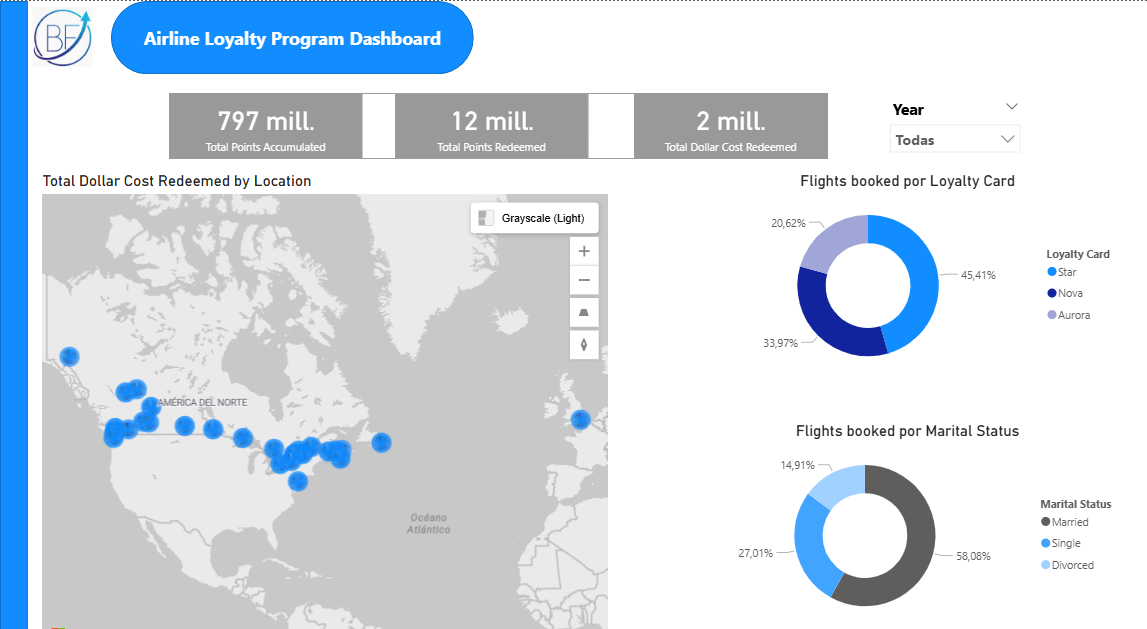

Layout of this report page (visuals, bound fields, positions):
{"tool":"powerbi","page":{"name":"Exec dashboard","canvas":[1280,720],"ordinal":0},"visuals":[{"type":"card","fields":{"Values":["Sum(Customer Flight Activity.Points Accumulated)"]},"box":[188.2,102.2,214.9,73.2],"z":0,"group":"g1"},{"type":"image","box":[31.4,0,77.4,80.8],"z":1},{"type":"shape","box":[0,0,31.4,720.2],"z":2},{"type":"card","fields":{"Values":["Sum(Customer Flight Activity.Points Redeemed)"]},"box":[439.1,102.2,214.9,73.2],"z":3,"group":"g1"},{"type":"card","fields":{"Values":["Sum(Customer Flight Activity.Dollar Cost Points Redeemed)"]},"box":[705.1,102.2,214.9,73.2],"z":4,"group":"g1"},{"type":"group","id":"g1","title":"Grupo 1","box":[188.2,102.2,731.8,73.2],"z":5},{"type":"shape","box":[123.1,0,403,81.3],"z":6},{"type":"azureMap","title":"Total Dollar Cost Redeemed by Location","fields":{"Series":["Customer Flight Activity.Dollar Cost Points Redeemed"],"Category":["Customer Loyalty History.City"]},"box":[41.8,190.5,637.7,529.7],"z":7},{"type":"slicer","fields":{"Values":["Customer Flight Activity.Year"]},"box":[979.2,102.2,164.9,73.2],"z":8},{"type":"donutChart","fields":{"Y":["DAX Measures.Flights booked"],"Category":["Customer Loyalty History.Loyalty Card"]},"box":[760.8,190.5,494.8,233.5],"z":9},{"type":"donutChart","fields":{"Y":["DAX Measures.Flights booked"],"Category":["Customer Loyalty History.Marital Status"]},"box":[760.8,468.1,494.8,233.5],"z":10}]}

Visuals, with their boxes in screenshot pixels (x1, y1, x2, y2), scaled from the page's 1280x720 canvas onto the 1147x629 screenshot:
card - Sum(Customer Flight Activity.Points Accumulated): [left=169, top=89, right=361, bottom=153]
image: [left=28, top=0, right=97, bottom=71]
shape: [left=0, top=0, right=28, bottom=628]
card - Sum(Customer Flight Activity.Points Redeemed): [left=393, top=89, right=586, bottom=153]
card - Sum(Customer Flight Activity.Dollar Cost Points Redeemed): [left=632, top=89, right=824, bottom=153]
"Grupo 1" group: [left=169, top=89, right=824, bottom=153]
shape: [left=110, top=0, right=471, bottom=71]
"Total Dollar Cost Redeemed by Location" azureMap: [left=37, top=166, right=609, bottom=628]
slicer - Customer Flight Activity.Year: [left=877, top=89, right=1025, bottom=153]
donutChart - DAX Measures.Flights booked x Customer Loyalty History.Loyalty Card: [left=682, top=166, right=1125, bottom=370]
donutChart - DAX Measures.Flights booked x Customer Loyalty History.Marital Status: [left=682, top=409, right=1125, bottom=613]
